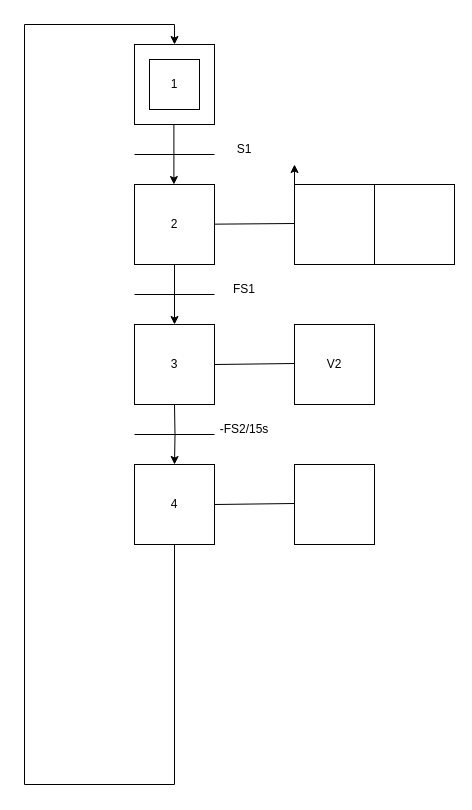
Some shapes in this 472 by 810 pixel diagram are drawn without their labels. The shapes that lost their labels are listed below. From the top down, each one's centre as x and y in pixels, then its label:
At pixel 334 224: "P1".
At pixel 414 224: "V1".
At pixel 334 504: "H1".
